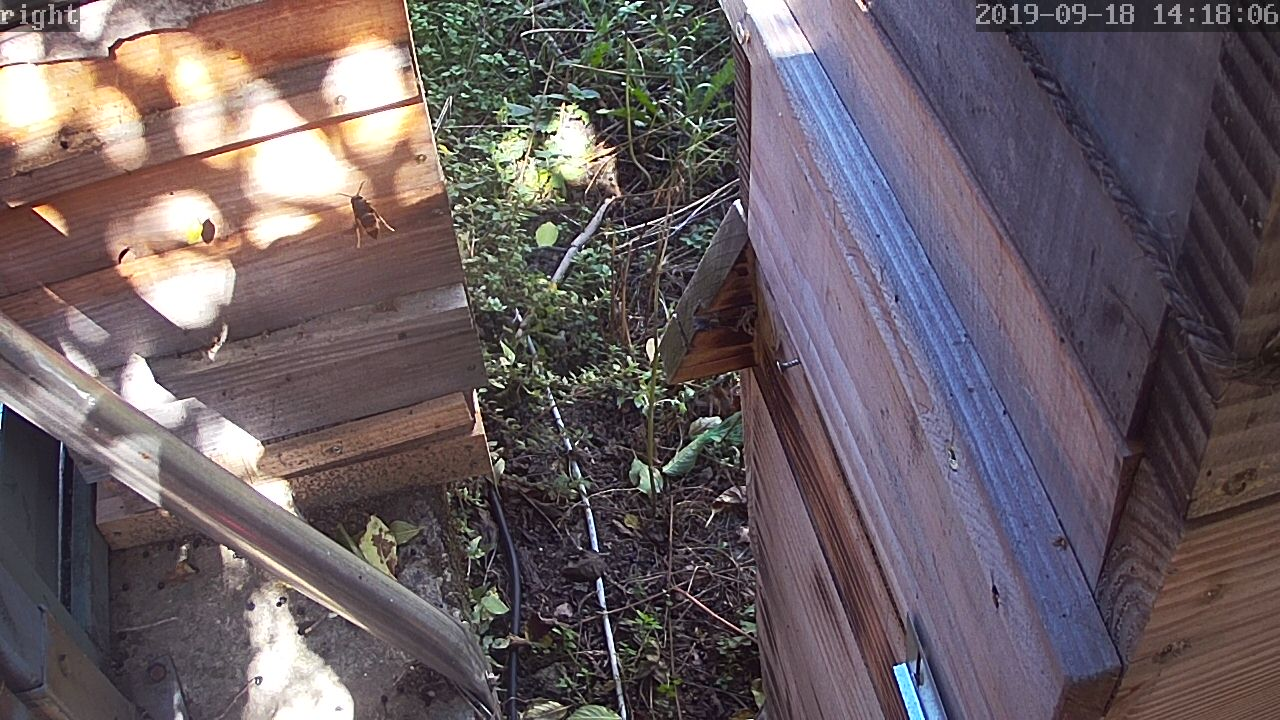hornet: (344, 186, 387, 247)
